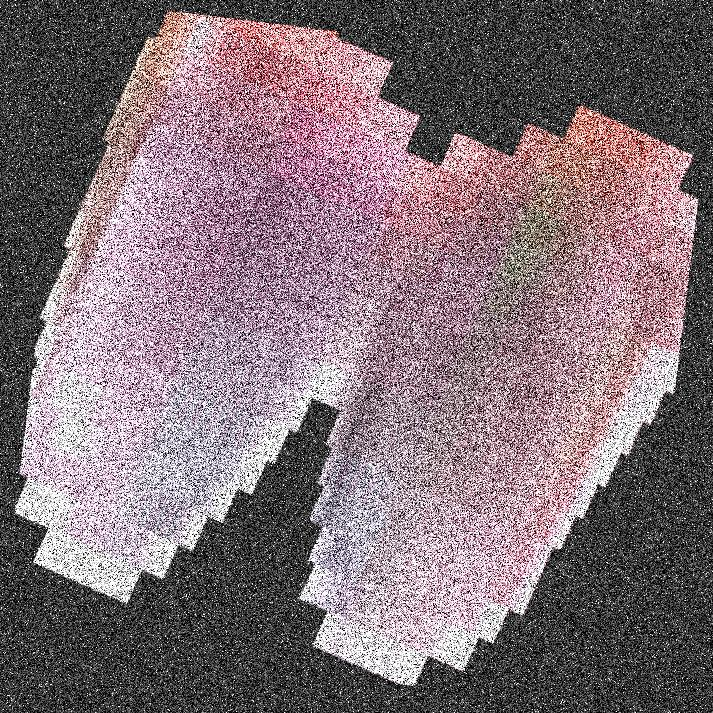Oculos: (379, 0, 703, 712)
